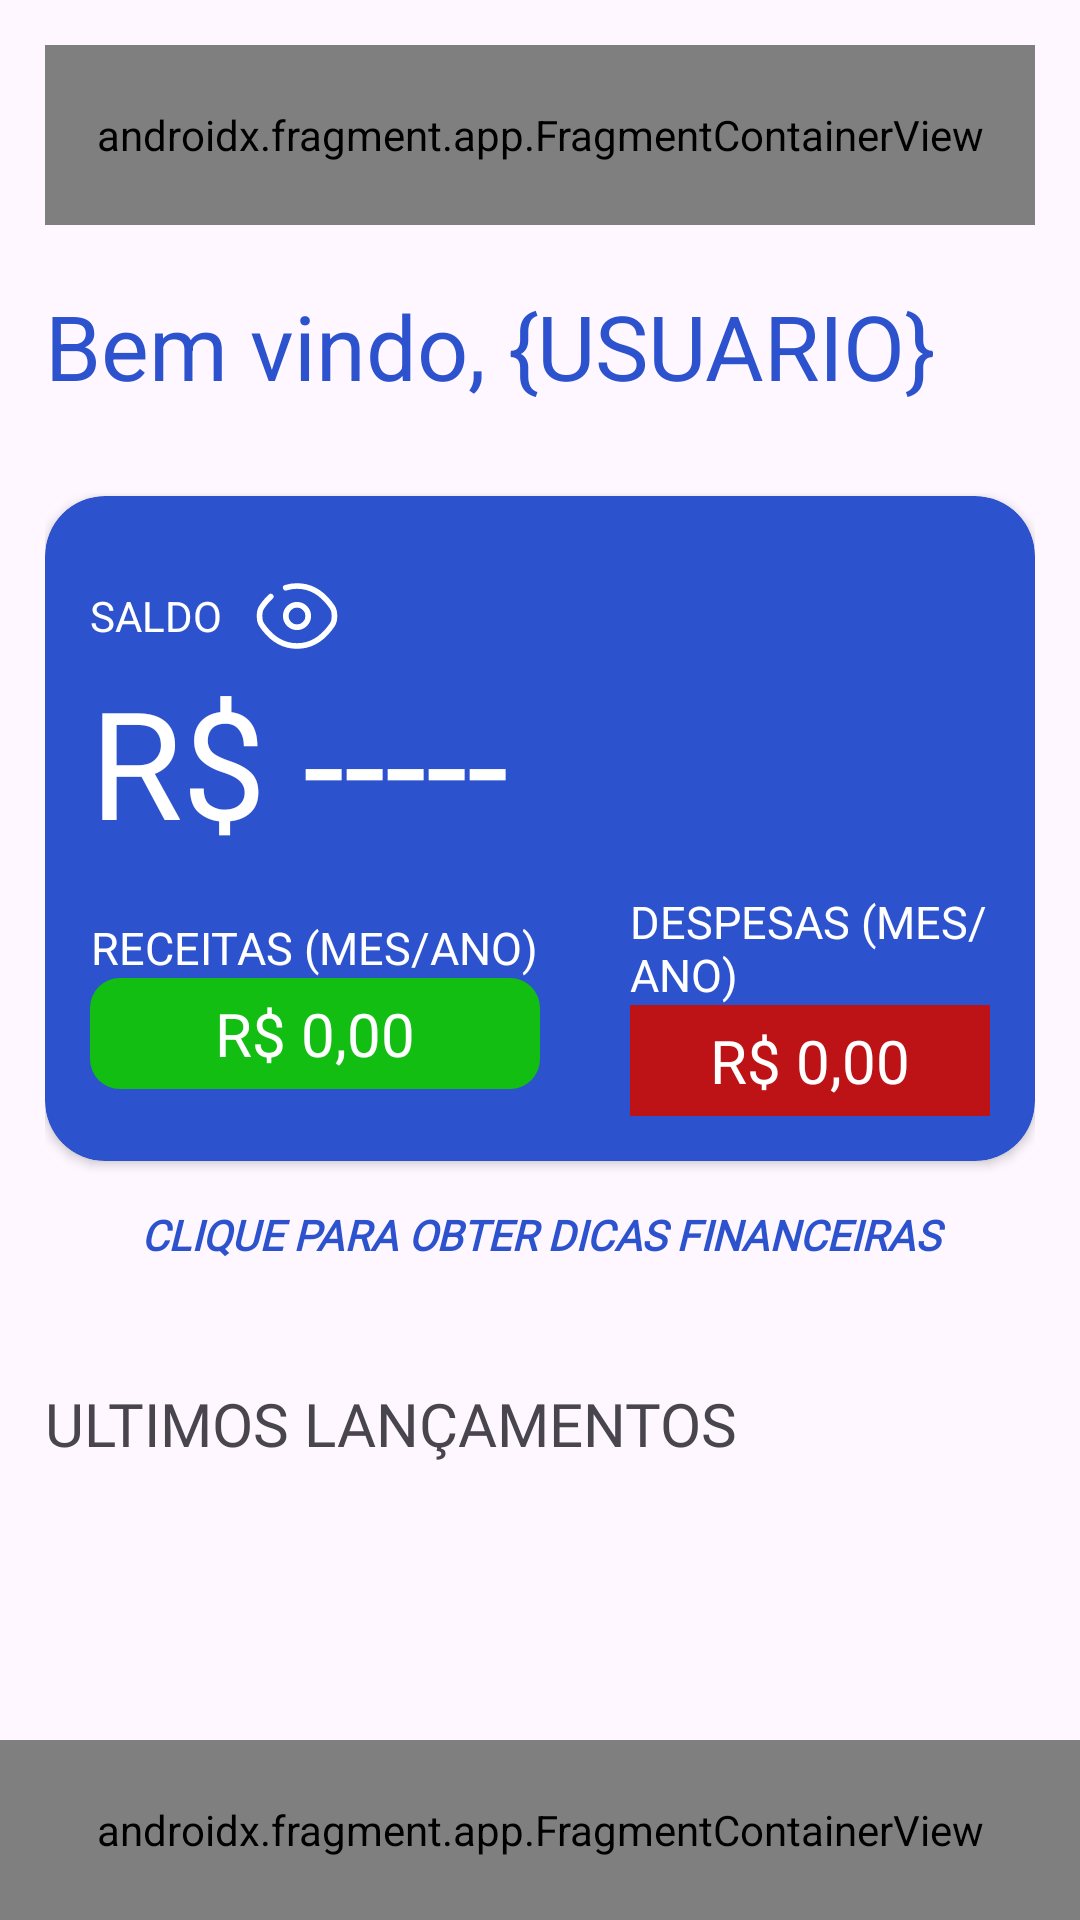

Screen size 1080 x 1920. Icon name, then its center in pixels as (x=x, y=y):
ver: (x=297, y=616)
